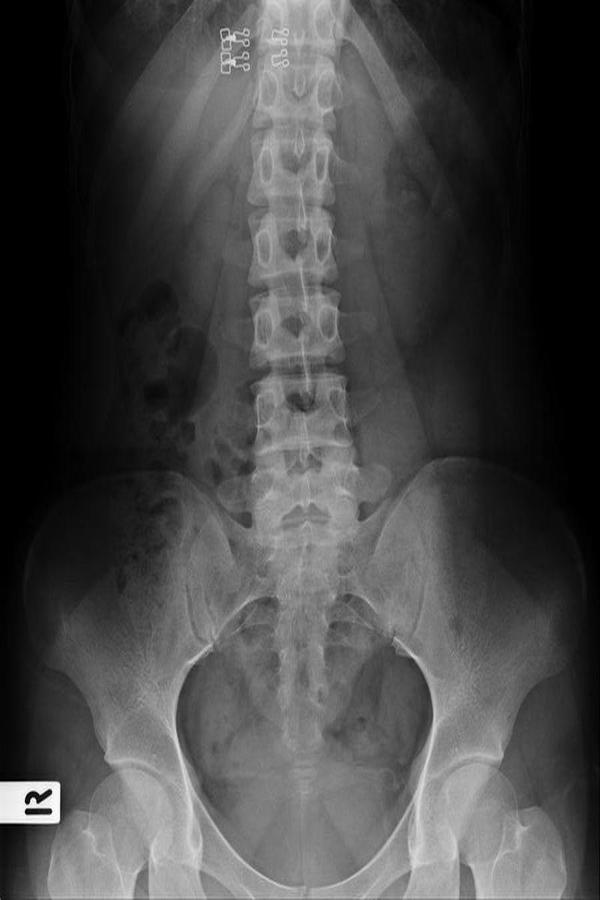lumbar scoliosis: (239, 3, 366, 568)
